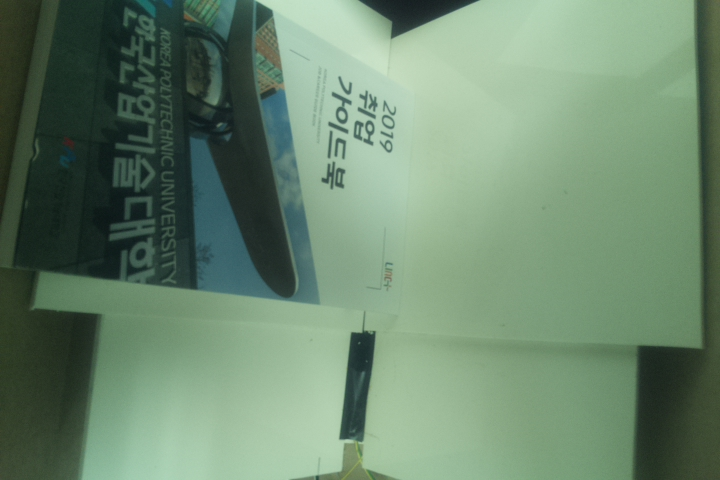book: (1, 1, 419, 319)
